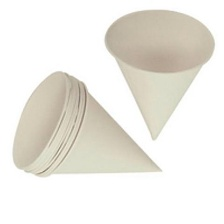paper_cup: (7, 66, 167, 185), (99, 5, 218, 146)
